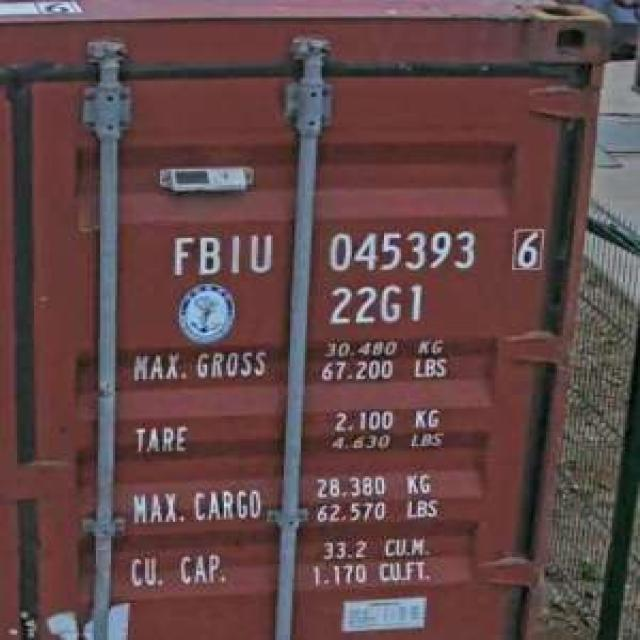dv: (506, 222, 546, 273)
owner: (164, 229, 275, 279)
serial: (320, 224, 482, 277)
size: (322, 279, 429, 328)
